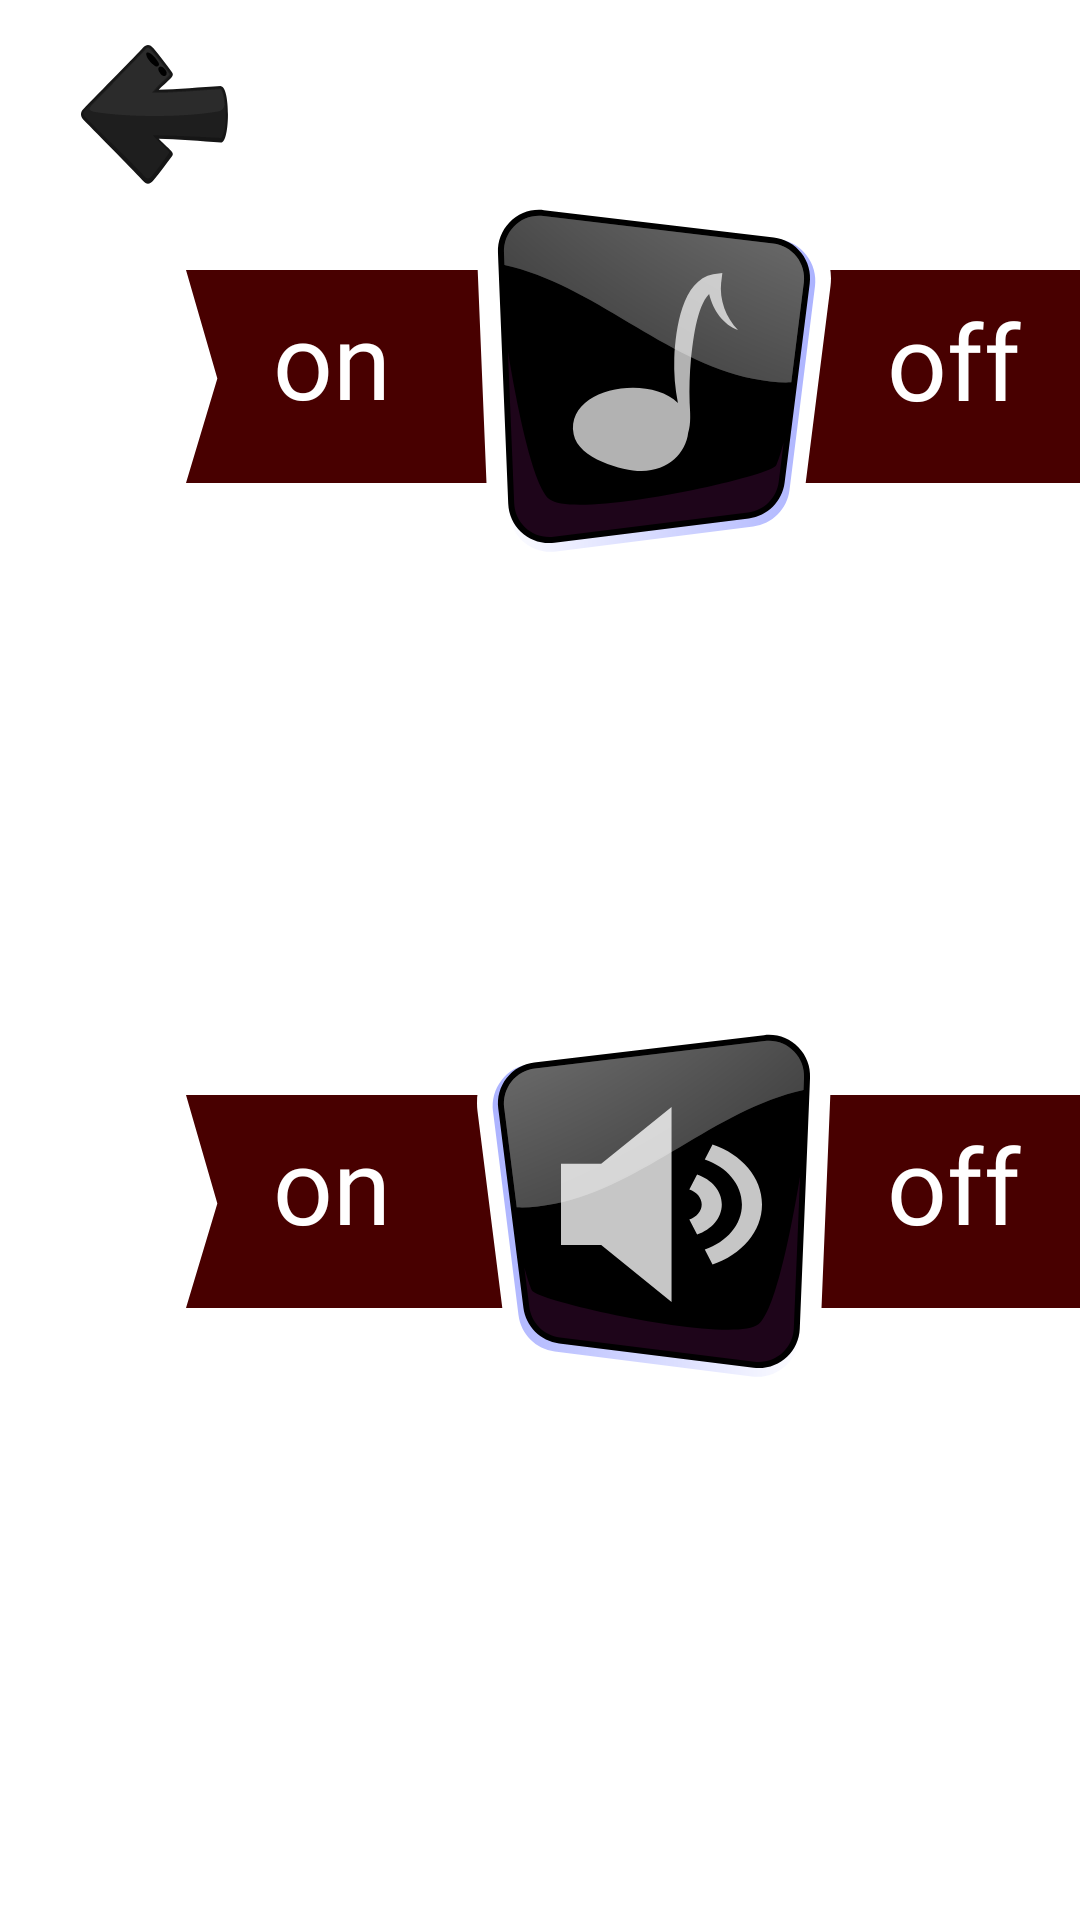

Icon click points for this 1080 × 1920 phone screenshot, format (x=x, y=y):
back: (x=154, y=114)
